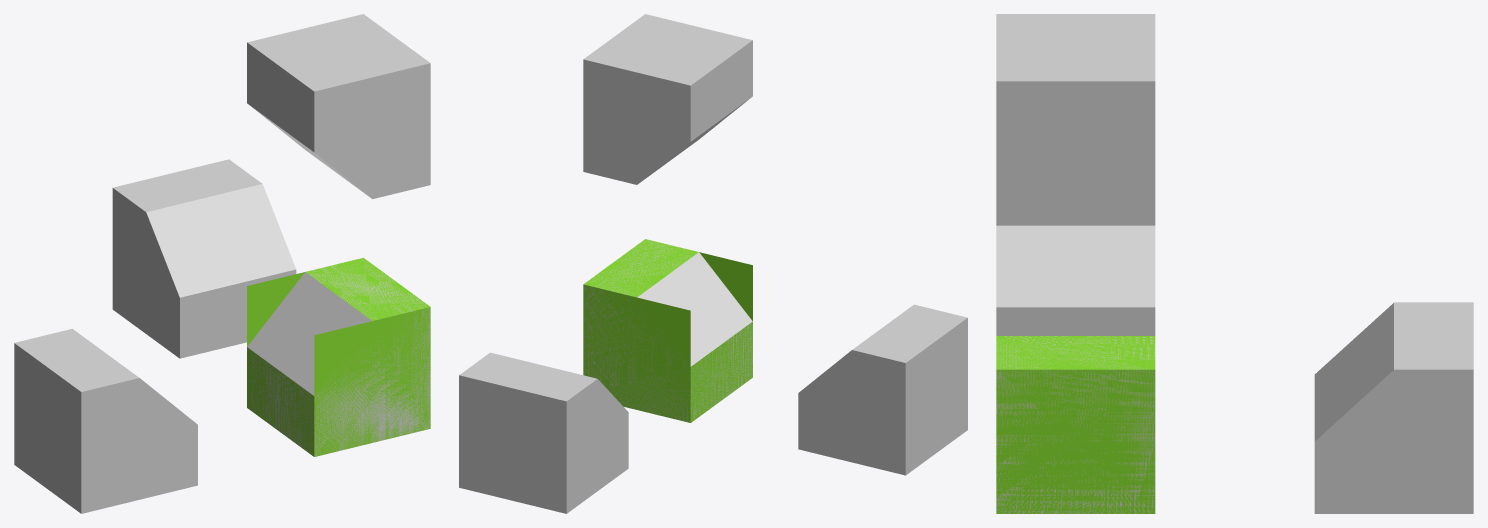
The model's file is Negative_Half_Slope.fbx.
3 views of the same model, side by side, from view 1: azimuth 30°, elevation 25°; view 2: azimuth 150°, elevation 25°; view 3: azimuth 270°, elevation 25° (orthographic). The views are drawn at different scales.
Parts seen in each view (by area): view 1: Cube.001, Cube.002, Cube.003, MountPoint, Cube; view 2: Cube.001, Cube.003, Cube.002, MountPoint, Cube; view 3: Cube.003, Cube.001, MountPoint, Cube.002, Cube.
Part boxes in pixels (x1,y1,x2,y2): Cube.001: (112,159,296,358); Cube.002: (14,328,197,513); Cube.003: (247,14,430,199); MountPoint: (247,257,430,456); Cube: (247,258,430,456); Cube.001: (459,352,628,513); Cube.003: (583,14,752,184); Cube.002: (798,304,967,475); MountPoint: (583,239,752,422); Cube: (583,240,752,422); Cube.003: (996,14,1155,225); Cube.001: (1314,302,1473,513); MountPoint: (996,336,1155,513); Cube.002: (996,225,1155,335); Cube: (996,336,1155,513).
Size of what is drawn, in the model's own units: 750 by 750 by 750.
